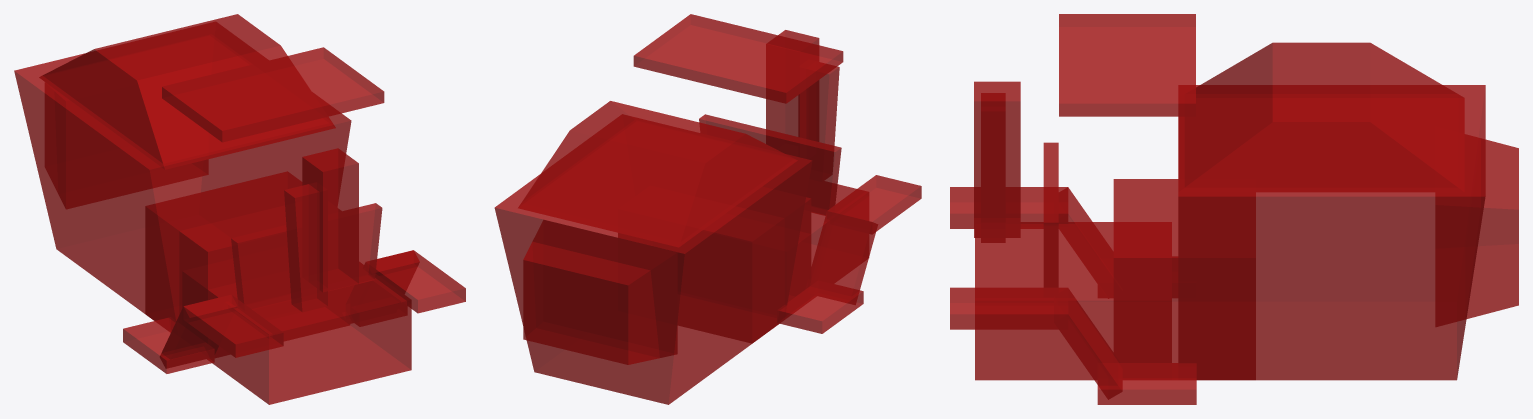
File: SM_Veh_Steam_Car_01_Collision.fbx
3 renders of one model, left to right at view 1: azimuth 30°, elevation 25°; view 2: azimuth 150°, elevation 25°; view 3: azimuth 270°, elevation 25°, orthographic. The views are drawn at different scales.
Visible parts, largest first — view 1: SM_Veh_Steam_Car_01_Collision; view 2: SM_Veh_Steam_Car_01_Collision; view 3: SM_Veh_Steam_Car_01_Collision.
Part boxes in pixels (x1,y1,x2,y2): SM_Veh_Steam_Car_01_Collision: [14, 14, 465, 404]; SM_Veh_Steam_Car_01_Collision: [494, 14, 921, 404]; SM_Veh_Steam_Car_01_Collision: [950, 14, 1518, 404].
Bounding box in the file's own units: 212 × 210 × 383.
